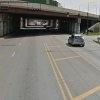Bridge: (4, 0, 92, 32)
